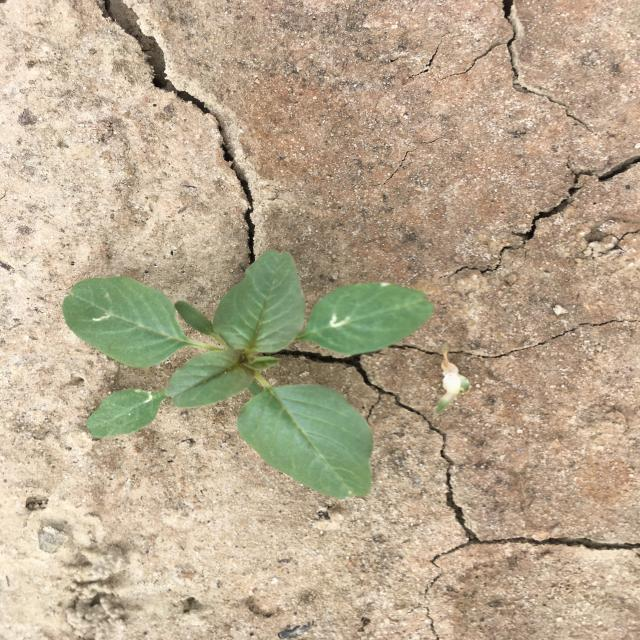PalmerAmaranth: (62, 249, 433, 500)
